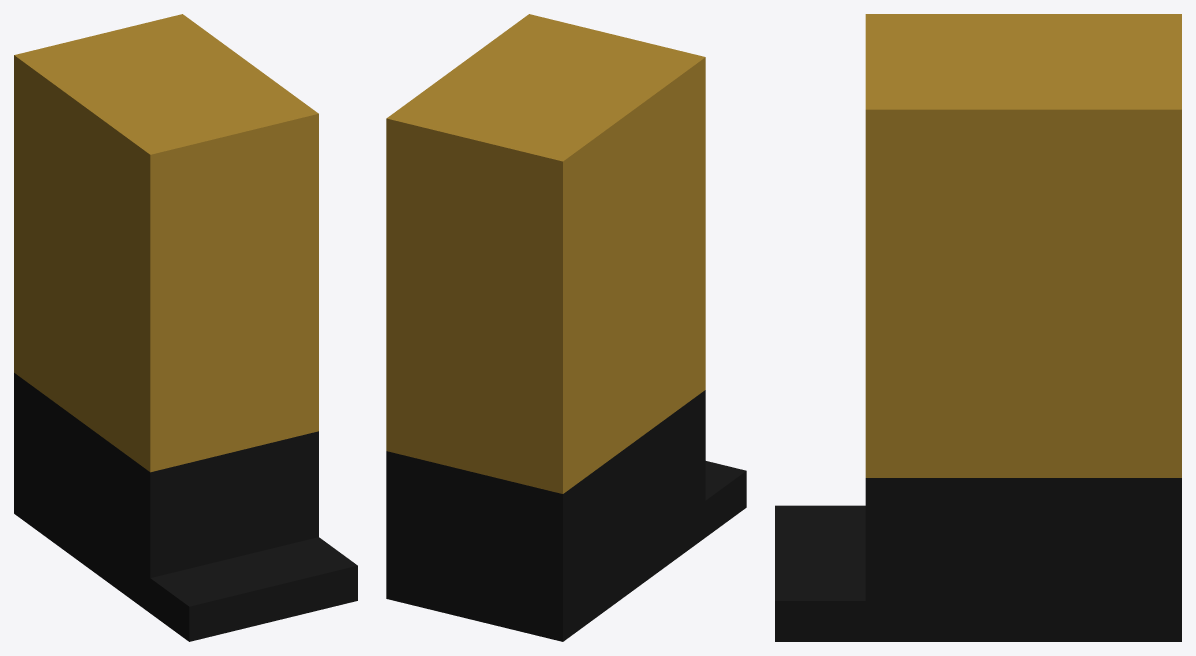
The model's file is hitler-0.obj.
3 views of the same model, side by side, from view 1: azimuth 30°, elevation 25°; view 2: azimuth 150°, elevation 25°; view 3: azimuth 270°, elevation 25° (orthographic). The views are drawn at different scales.
Size of the model in its own units: 0.5 by 1.3 by 0.9.
1 material, 1 textured.
